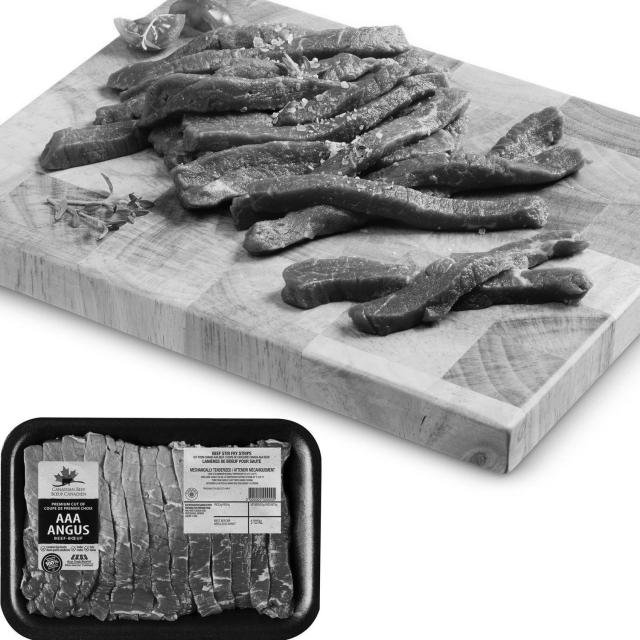meat pieces: (103, 48, 605, 320)
